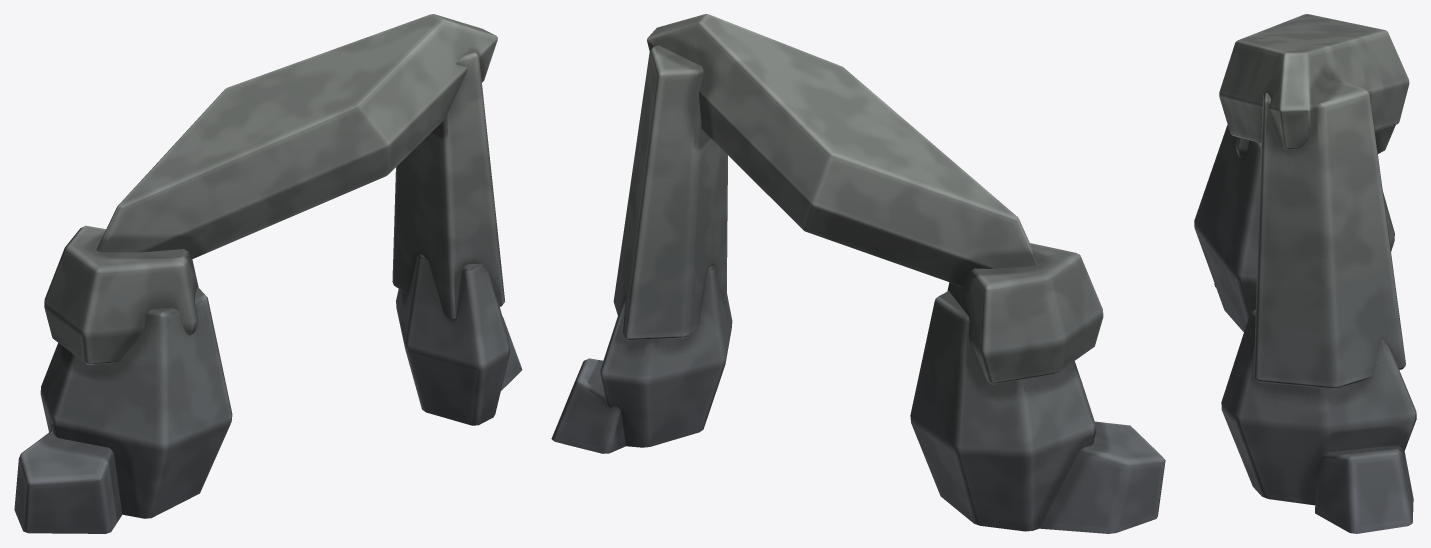
The model's file is arch_1.glb.
3 renders of one model, left to right at view 1: azimuth 30°, elevation 25°; view 2: azimuth 150°, elevation 25°; view 3: azimuth 270°, elevation 25°, orthographic. The views are drawn at different scales.
Parts seen in each view (by area): view 1: arch_1; view 2: arch_1; view 3: arch_1.
Part boxes in pixels (x1,y1,x2,y2): arch_1: [14, 14, 522, 533]; arch_1: [551, 14, 1165, 533]; arch_1: [1194, 14, 1416, 533].
Size of the model in its own units: 6 by 4.2 by 2.
1 material, 1 textured.
